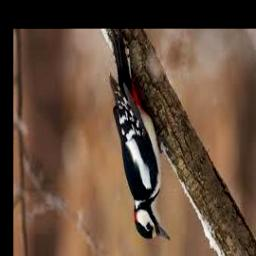Woodpecker: (110, 29, 171, 242)
